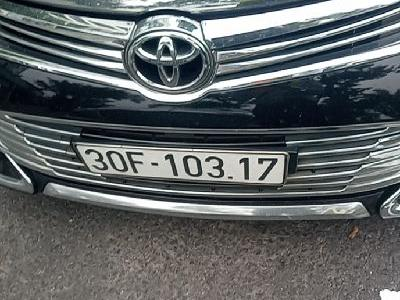lisence: (71, 140, 290, 188)
